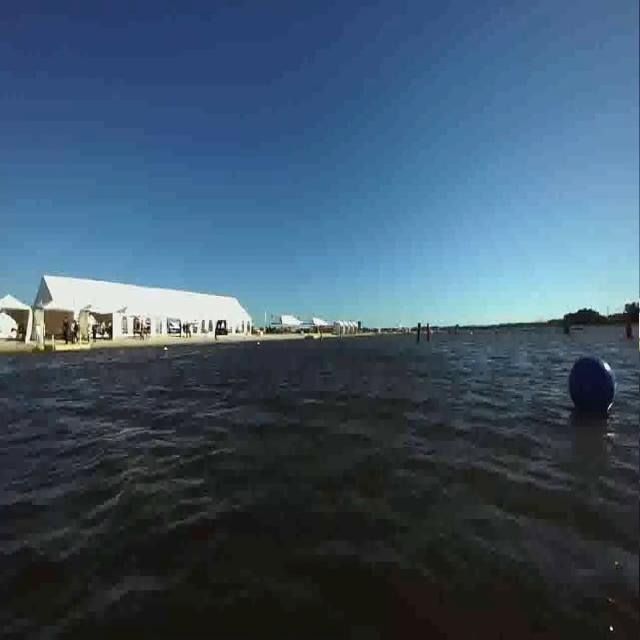blue-buoy: (570, 354, 617, 415)
red-column-buoy: (625, 312, 636, 339)
